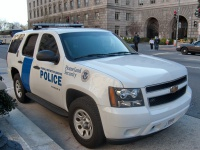car: (5, 22, 192, 148)
